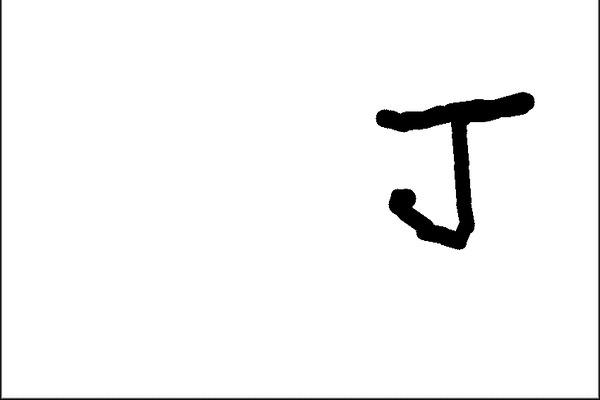J: (367, 86, 541, 253)
